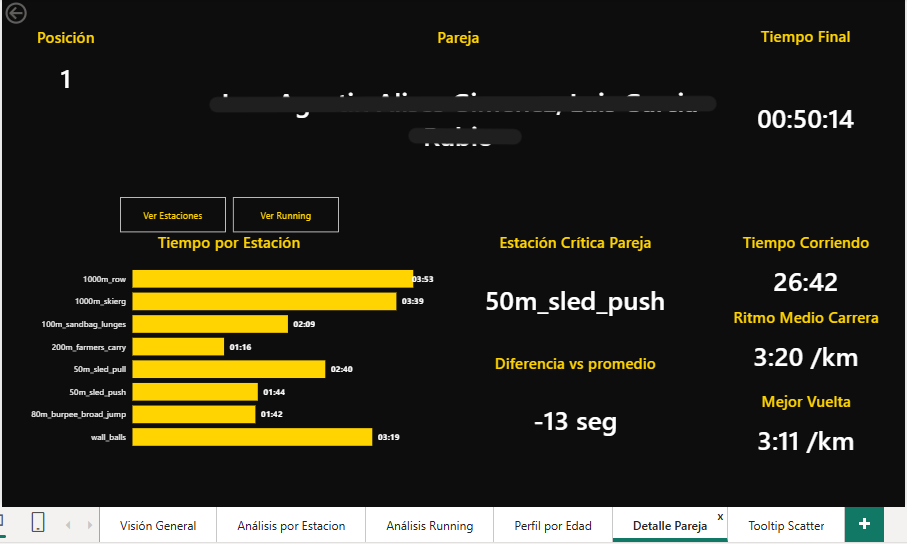

This screenshot's page, from the dashboard's own definition file:
{"tool":"powerbi","page":{"name":"Detalle Pareja","canvas":[1280,720],"ordinal":4},"visuals":[{"type":"cardVisual","title":"Pareja","fields":{"Data":["Min(splits_largo.nombres_pareja)"]},"box":[267.4,39.8,758,227.6],"z":0},{"type":"cardVisual","title":"Posición","fields":{"Data":["_Medidas.Posicion Pareja"]},"box":[27.1,40,127.1,111.4],"z":1000},{"type":"actionButton","box":[0,0,100,40],"z":2000},{"type":"cardVisual","title":"Tiempo Final","fields":{"Data":["_Medidas.Tiempo Pareja Detalle"]},"box":[1025.7,38.6,226.1,227],"z":3000},{"type":"cardVisual","title":"Estación Crítica Pareja","fields":{"Data":["_Medidas.Estacion Pareja Critica"]},"box":[645.7,330,332.9,160],"z":4000},{"type":"card","title":"Diferencia vs promedio","fields":{"Values":["_Medidas.Desviacion Estacion Critica"]},"box":[645.7,501.4,332.9,161.4],"z":5000},{"type":"cardVisual","title":"Ritmo Medio Carrera","fields":{"Data":["_Medidas.Ritmo Medio Carrera"]},"box":[1001.4,437.1,275.7,105.7],"z":6000},{"type":"cardVisual","title":"Mejor Vuelta","fields":{"Data":["_Medidas.Mejor Vuelta Formato"]},"box":[1001.4,555.7,275.7,105.7],"z":7000},{"type":"cardVisual","title":"Tiempo Corriendo","fields":{"Data":["_Medidas.Tiempo Total Corriendo"]},"box":[1001.4,330,275.7,105.7],"z":8000},{"type":"clusteredBarChart","title":"Tiempo por Estación","fields":{"Category":["splits_largo.Estacion"],"Y":["Min(splits_largo.Split_Segundos)"]},"box":[27.1,330,590,321.4],"z":11000},{"type":"bookmarkNavigator","box":[167.1,280,310,50],"z":12001}]}

Visuals, with their boxes on the page's 1280x720 design canvas (x1, y1, x2, y2). These are canvas units, not pixel positions in the 907x544 screenshot, which may show the page scaled, cropped or inside an application window:
"Pareja" cardVisual: (x1=267, y1=40, x2=1025, y2=267)
"Posición" cardVisual: (x1=27, y1=40, x2=154, y2=151)
actionButton: (x1=0, y1=0, x2=100, y2=40)
"Tiempo Final" cardVisual: (x1=1026, y1=39, x2=1252, y2=266)
"Estación Crítica Pareja" cardVisual: (x1=646, y1=330, x2=979, y2=490)
"Diferencia vs promedio" card: (x1=646, y1=501, x2=979, y2=663)
"Ritmo Medio Carrera" cardVisual: (x1=1001, y1=437, x2=1277, y2=543)
"Mejor Vuelta" cardVisual: (x1=1001, y1=556, x2=1277, y2=661)
"Tiempo Corriendo" cardVisual: (x1=1001, y1=330, x2=1277, y2=436)
"Tiempo por Estación" clusteredBarChart: (x1=27, y1=330, x2=617, y2=651)
bookmarkNavigator: (x1=167, y1=280, x2=477, y2=330)
